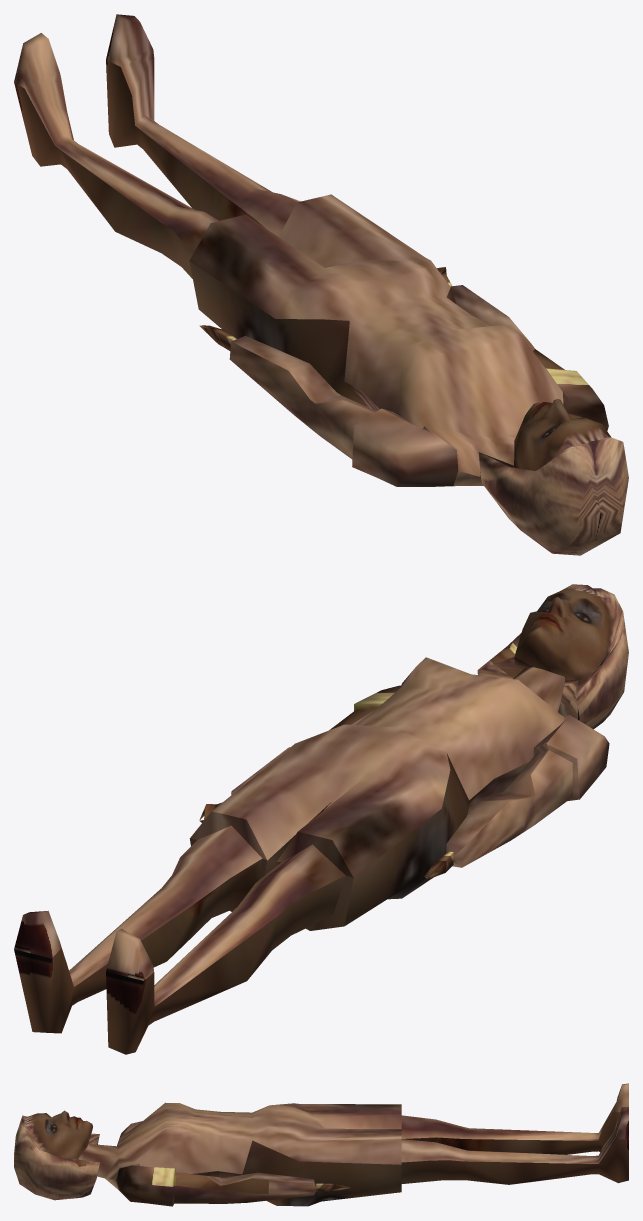
The model's file is npc_cici.obj.
3 views of the same model, one above another, from view 1: azimuth 30°, elevation 25°; view 2: azimuth 150°, elevation 25°; view 3: azimuth 270°, elevation 25° (orthographic). The views are drawn at different scales.
Parts seen in each view (by area): view 1: npc_cici; view 2: npc_cici; view 3: npc_cici.
Part boxes in pixels (bbox=[...]): npc_cici: bbox=[14, 14, 628, 555]; npc_cici: bbox=[14, 584, 628, 1054]; npc_cici: bbox=[14, 1083, 628, 1206].
Size of the model in its own units: 0.296 by 0.2037 by 1.11.
Materials: 1 (1 with a texture image).
